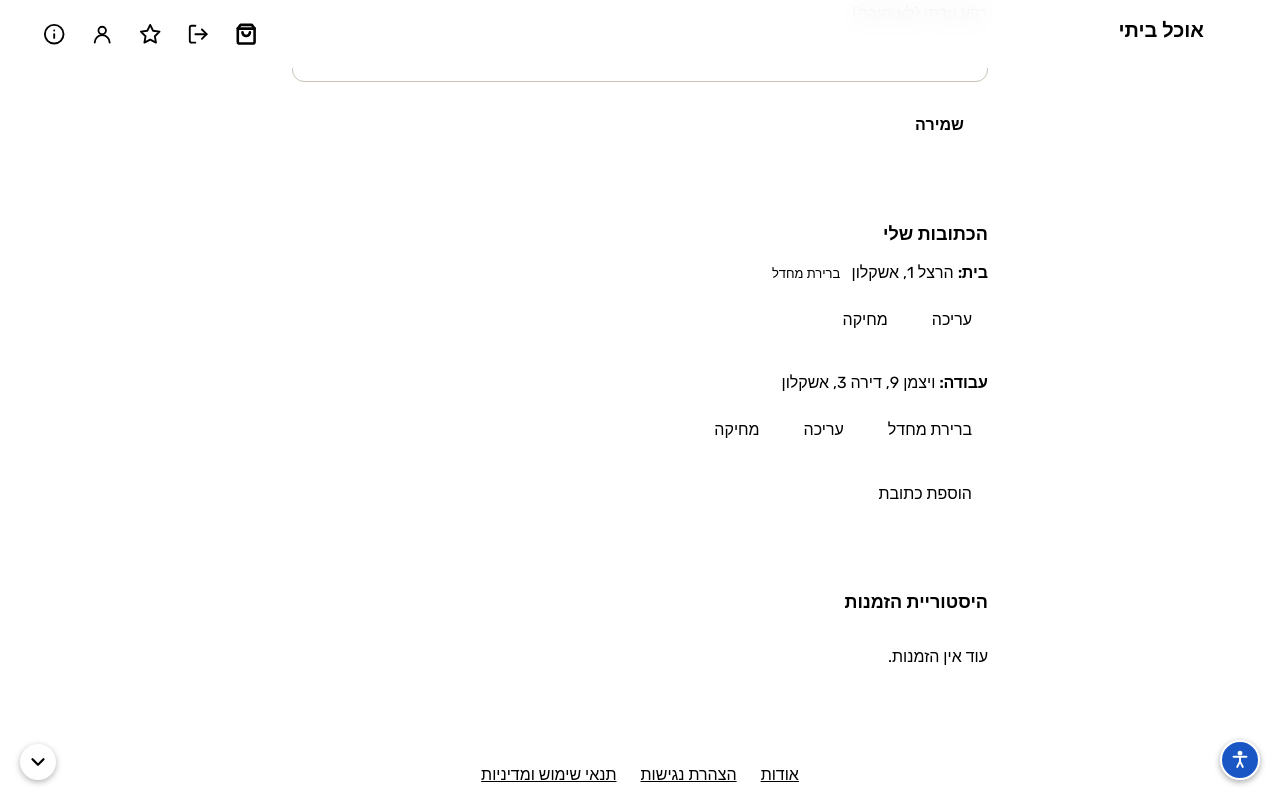
Test: Saved addresses on the profile page › asks before deleting an address
This screenshot has width=1280, height=800.
(page scrolled)
Click the button "מחיקה" below "עבודה" at (737, 430), box [702,408,772,452]
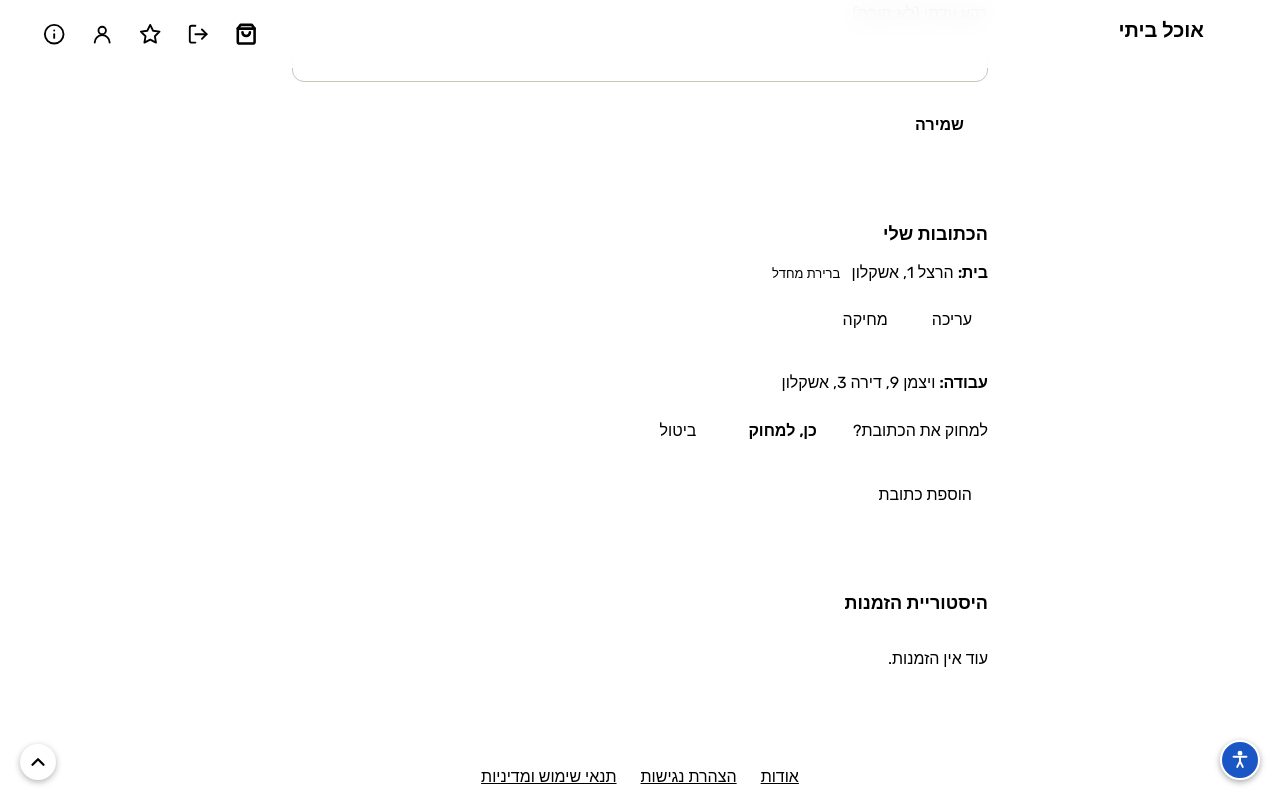
Click the button "כן, למחוק" at (783, 430), box [728,408,837,453]
(page scrolled)
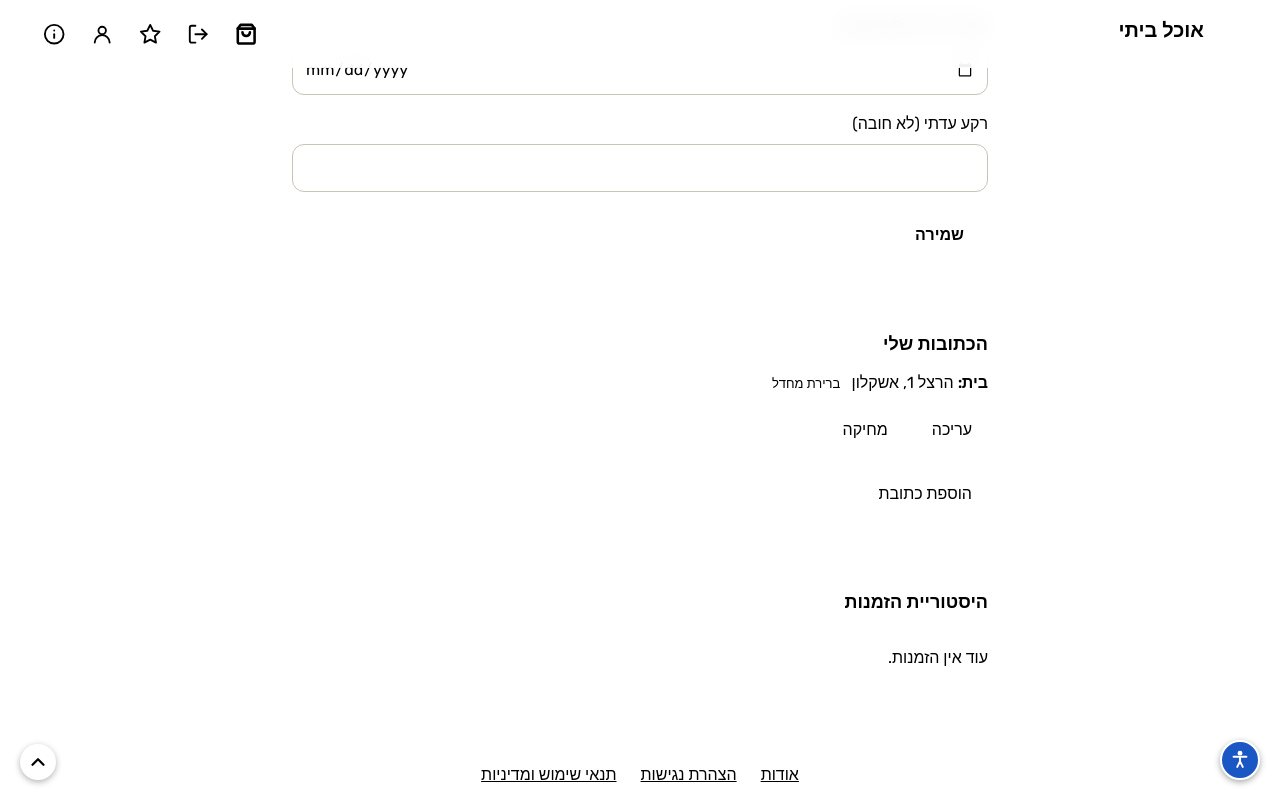
Now the text "ויצמן 9, דירה 3, אשקלון" is gone
